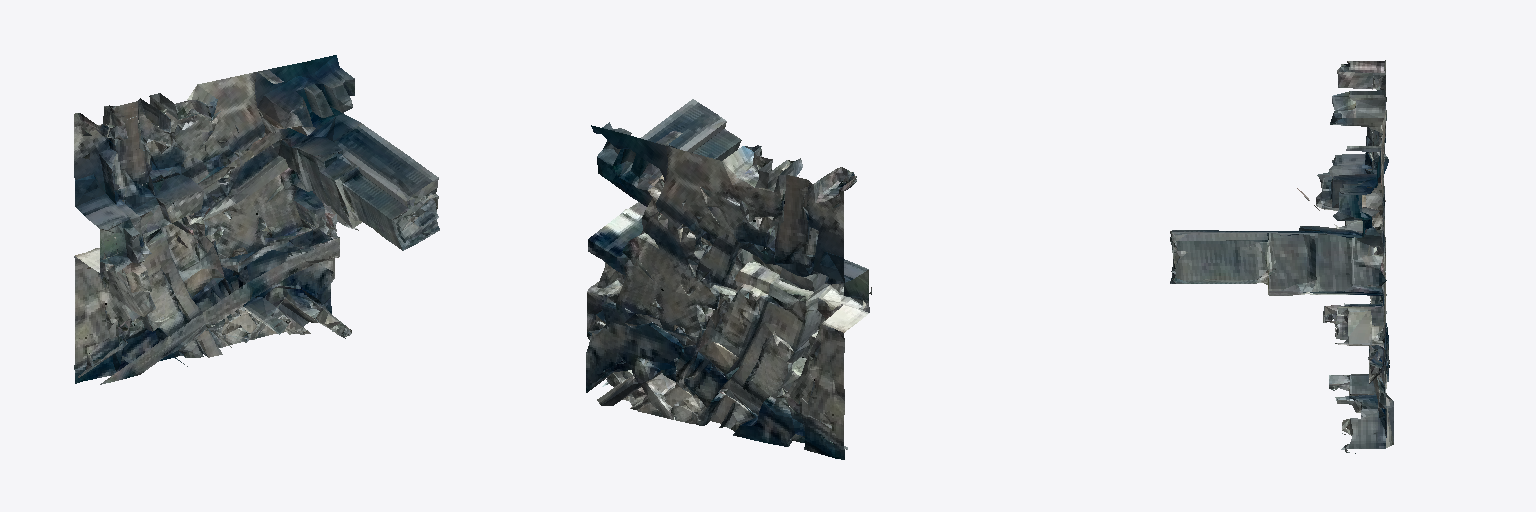
3 renders of one model, left to right at view 1: azimuth 30°, elevation 25°; view 2: azimuth 150°, elevation 25°; view 3: azimuth 270°, elevation 25°, orthographic.
Visible parts, largest first — view 1: Tile_173078_LD_011_018_L15.osgb__Geometry_0; view 2: Tile_173078_LD_011_018_L15.osgb__Geometry_0; view 3: Tile_173078_LD_011_018_L15.osgb__Geometry_0.
Part boxes in pixels (left/top/right/bottom): Tile_173078_LD_011_018_L15.osgb__Geometry_0: left=74, top=55, right=439, bottom=384; Tile_173078_LD_011_018_L15.osgb__Geometry_0: left=586, top=99, right=871, bottom=459; Tile_173078_LD_011_018_L15.osgb__Geometry_0: left=1170, top=60, right=1393, bottom=453.
Bounding box in the file's own units: 255 × 255 × 195.
Materials: 1 (1 with a texture image).